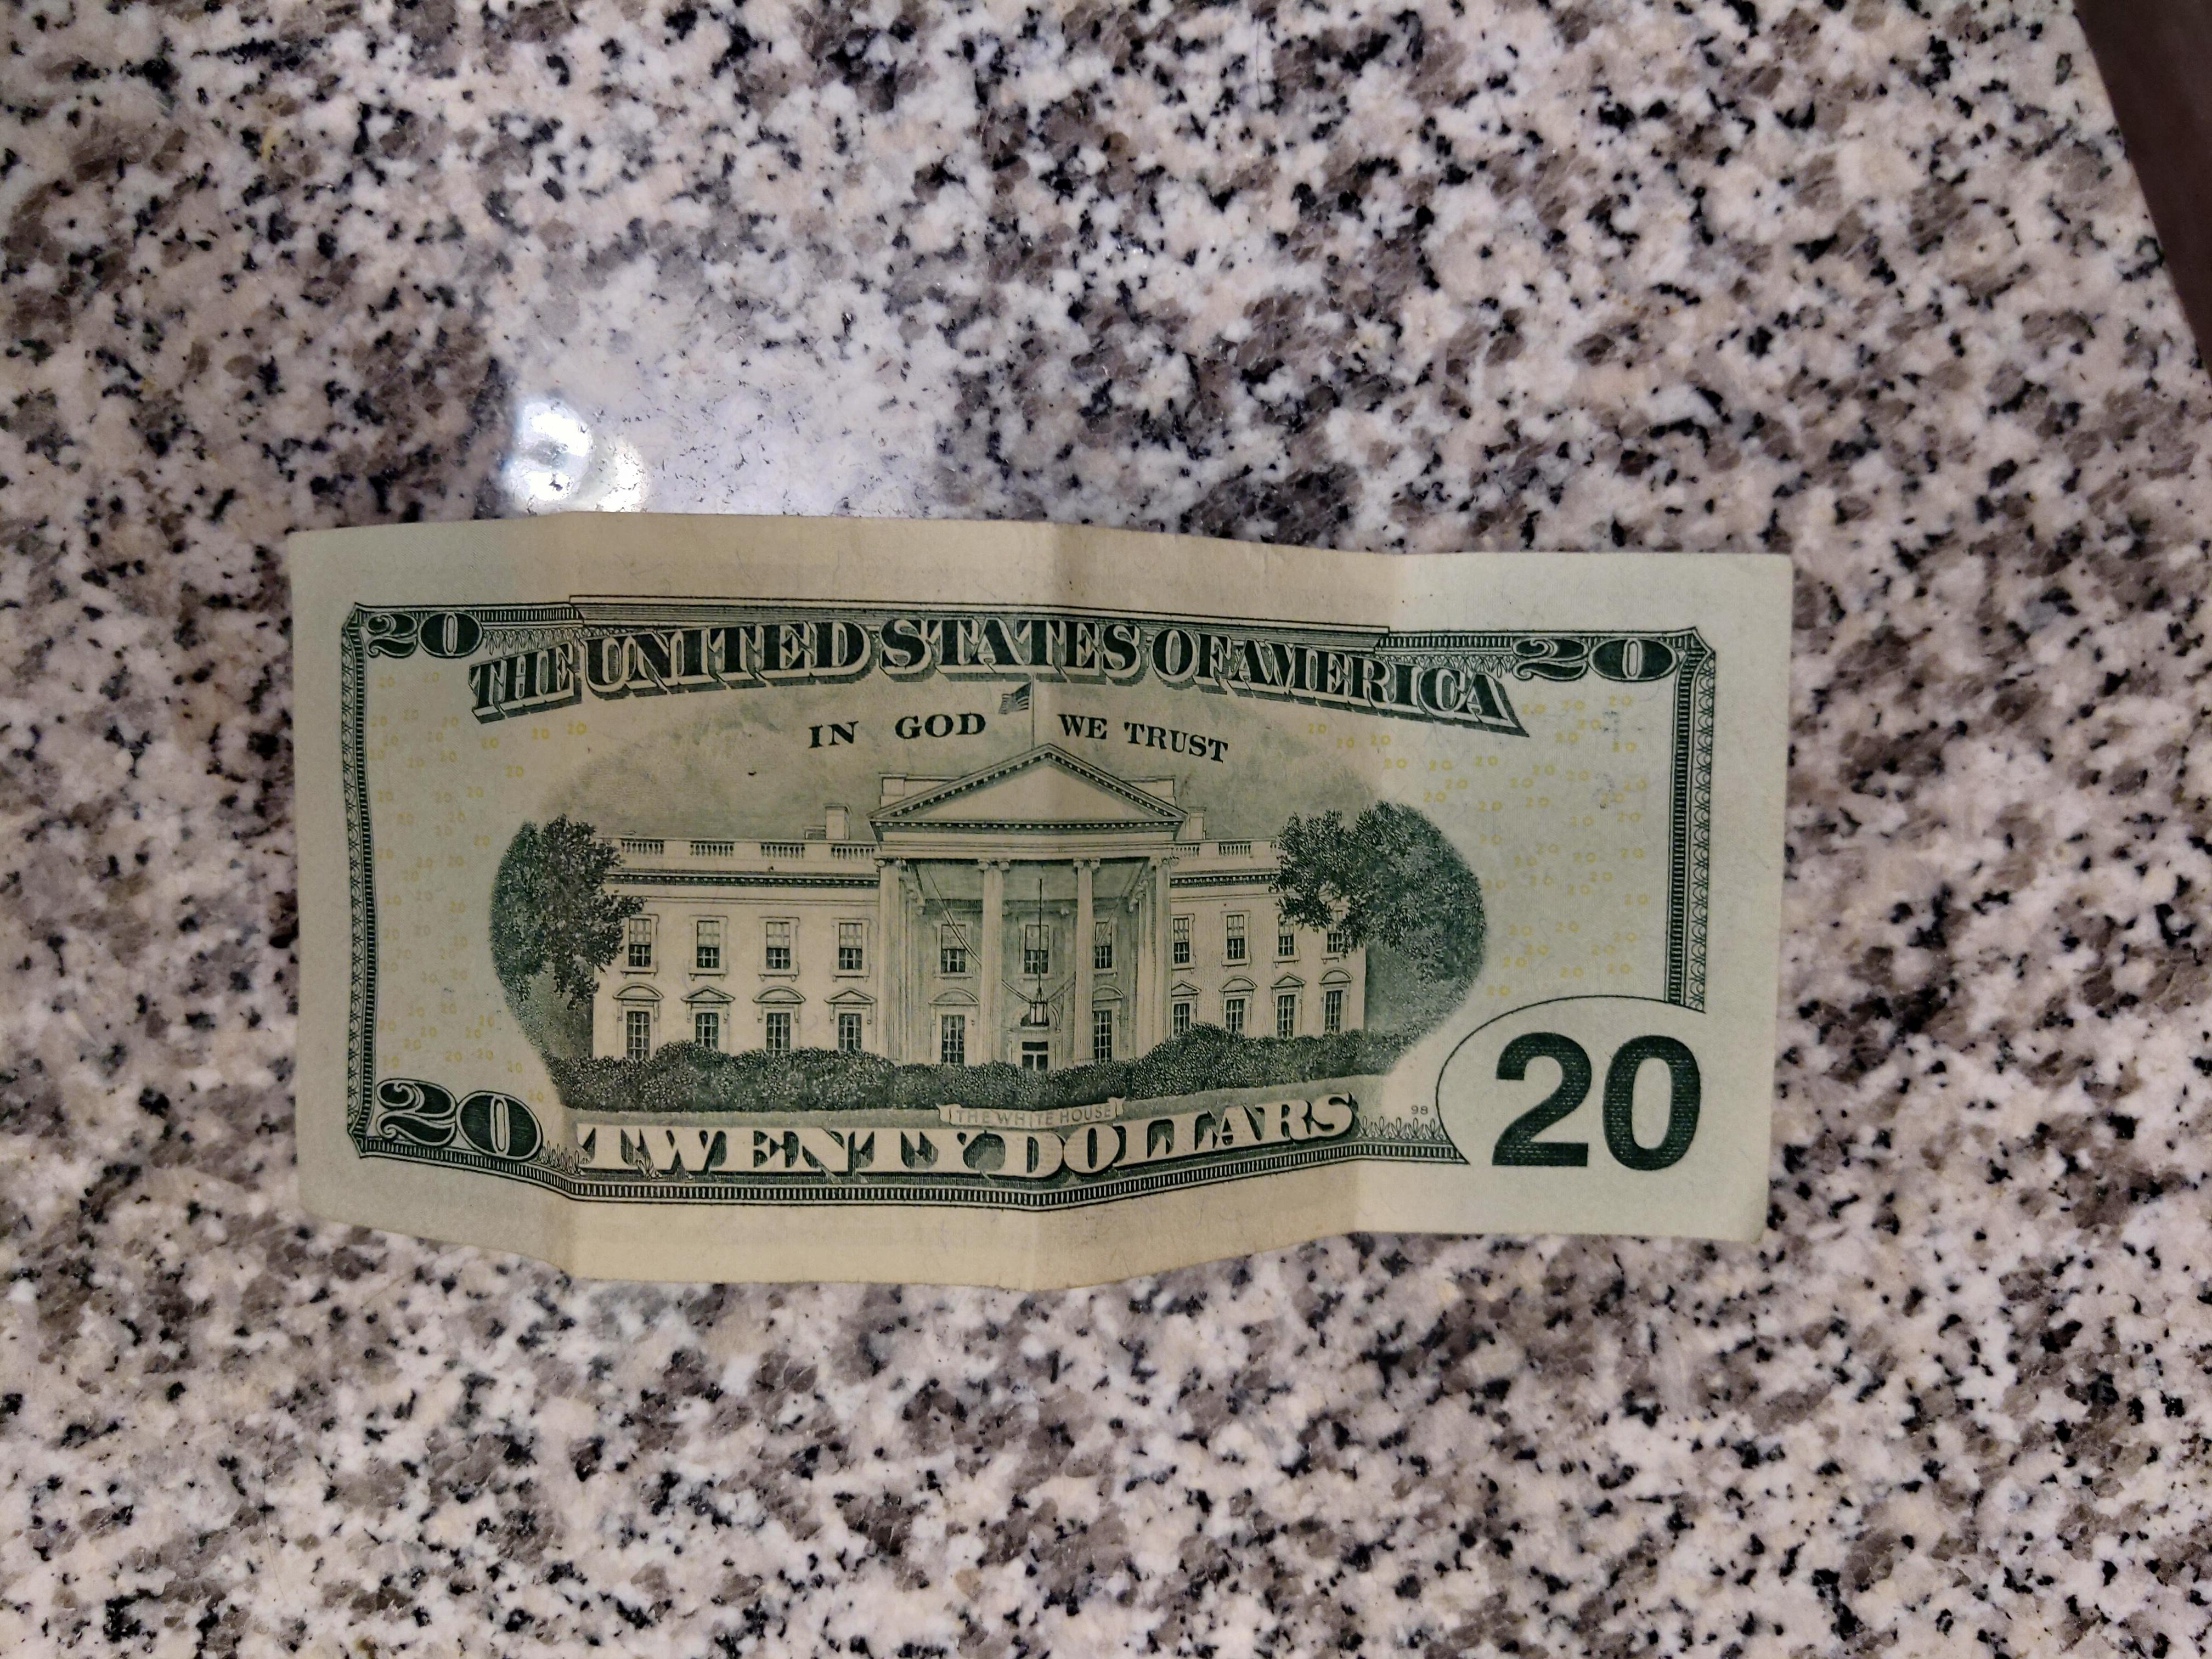TwentyBill: (282, 505, 1806, 1291)
